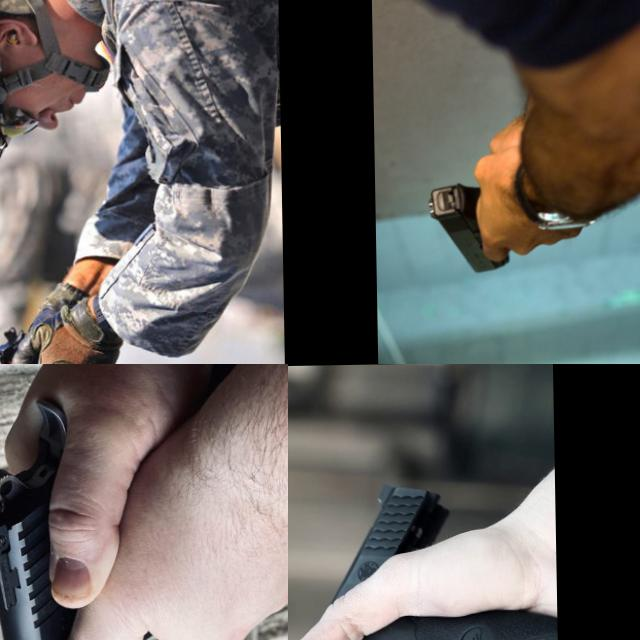handgun: (288, 477, 562, 640), (0, 393, 121, 640), (423, 174, 514, 278)
